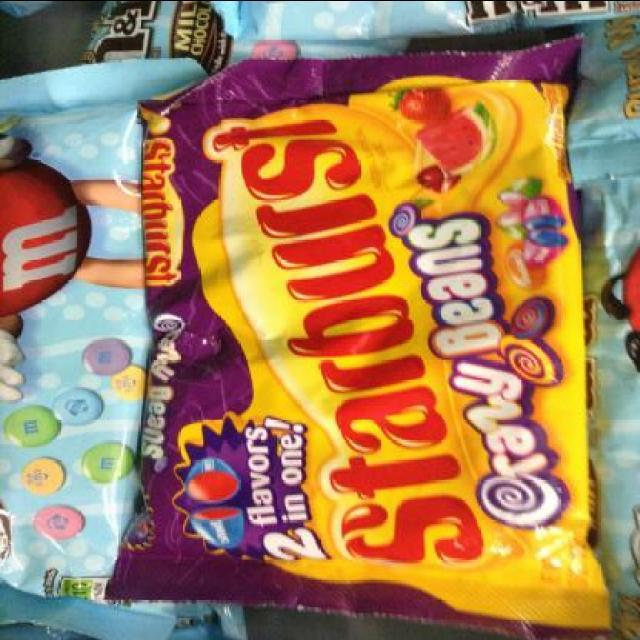Candy: (493, 174, 570, 286), (477, 468, 588, 540), (492, 332, 566, 384), (184, 454, 244, 504), (186, 506, 250, 552), (1, 404, 65, 447), (78, 440, 136, 482), (47, 384, 104, 426), (504, 296, 558, 340), (76, 337, 132, 375), (31, 502, 83, 540), (20, 455, 66, 497), (110, 362, 147, 404), (385, 200, 421, 237)
